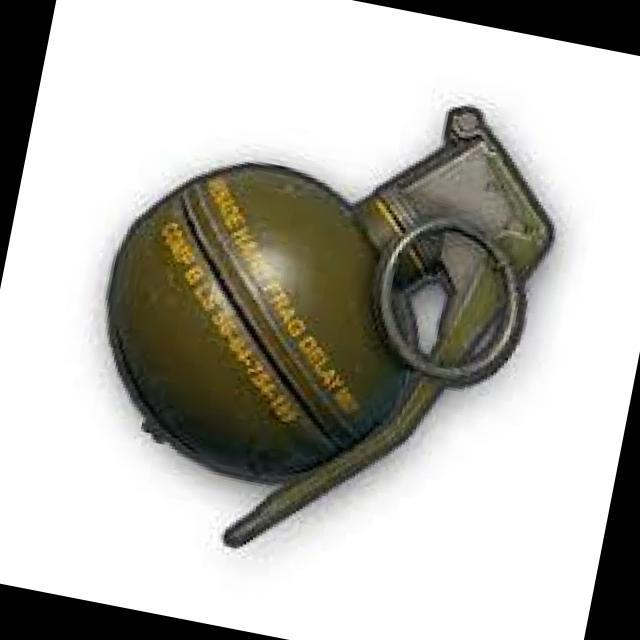grenade: (44, 36, 588, 593)
